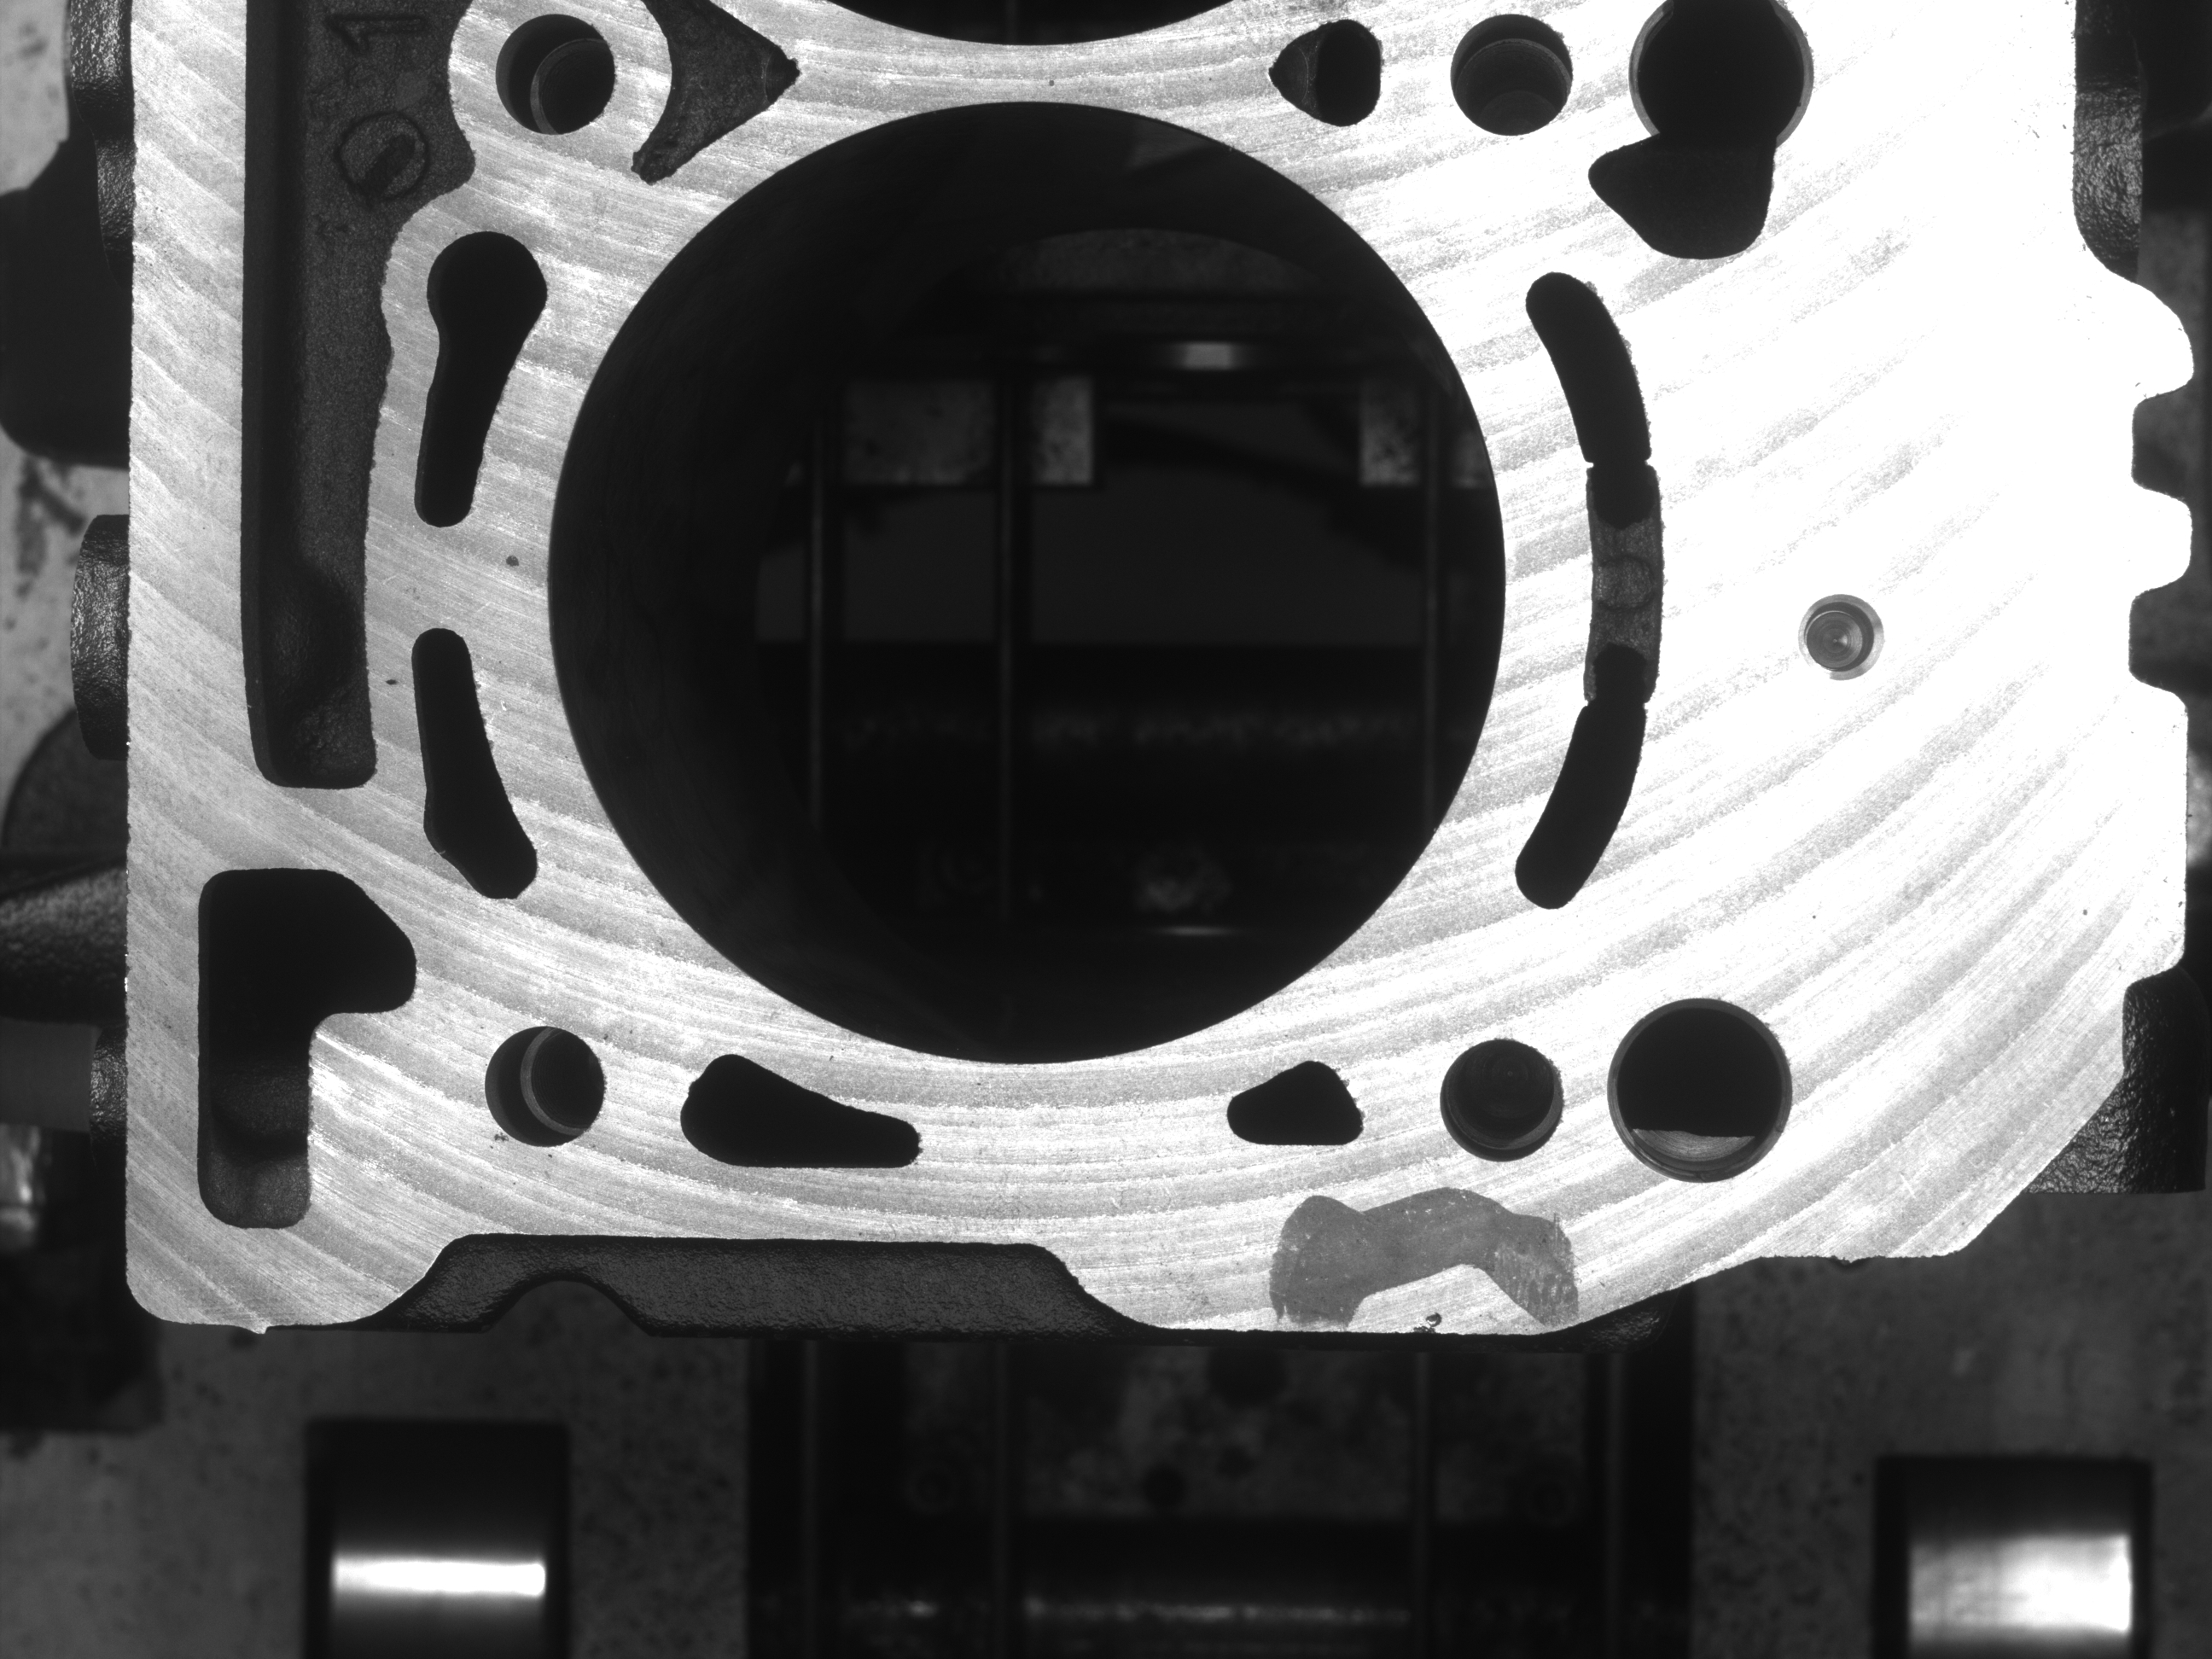shrinkage: (1407, 1291, 1461, 1330)
